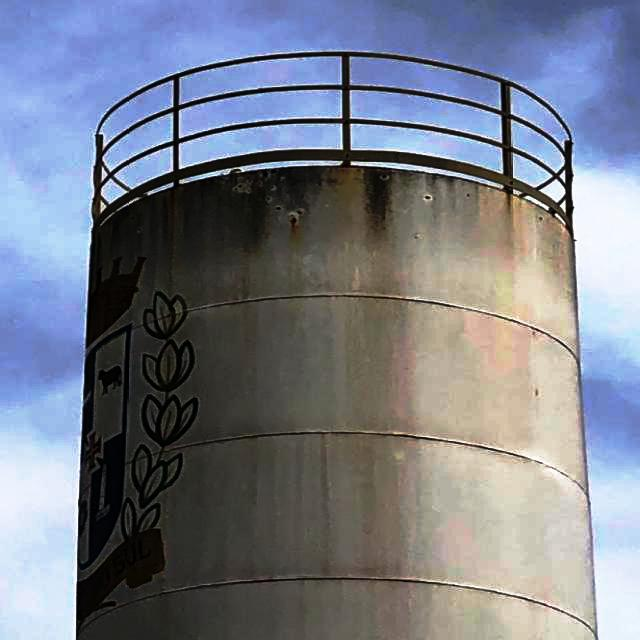Corrosion: (165, 179, 187, 196), (290, 212, 299, 224), (232, 183, 242, 192), (259, 171, 268, 178), (380, 174, 390, 180), (425, 194, 433, 201), (297, 208, 306, 214), (275, 205, 282, 210), (269, 168, 276, 172)
